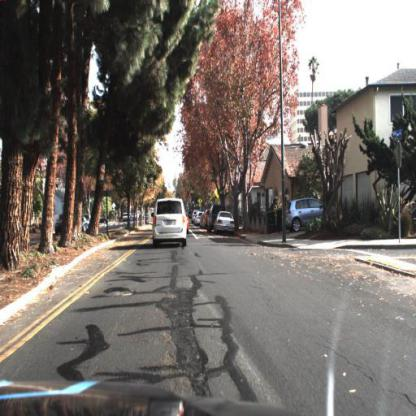car: (147, 196, 198, 251), (286, 197, 337, 233), (214, 210, 237, 239)
pedestrian: (270, 199, 280, 225)
